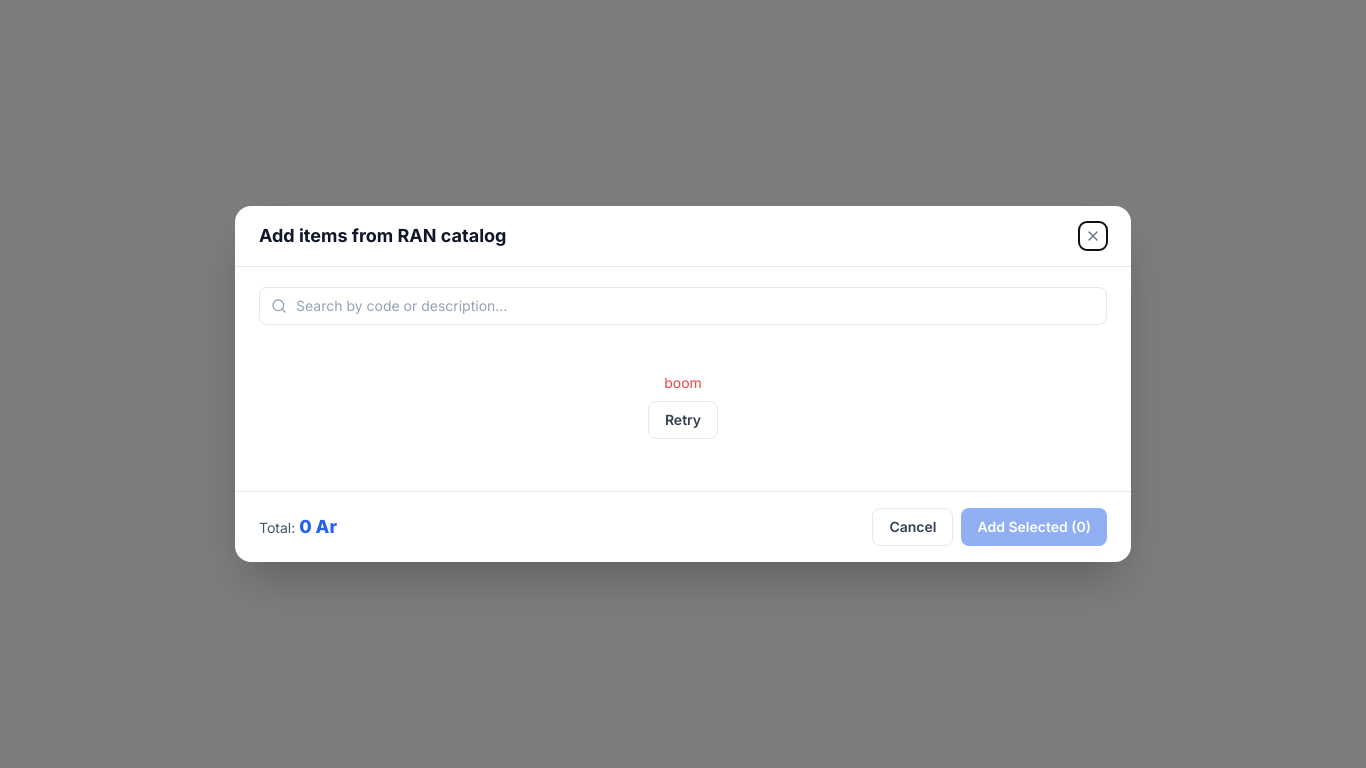
Test: ItemPickerModal — catalog fetch › shows an error state and recovers on Retry
Expected: the text "boom" is shown, [664,374,702,391]
Click the button "Retry" at (683, 420), box [648,401,718,439]
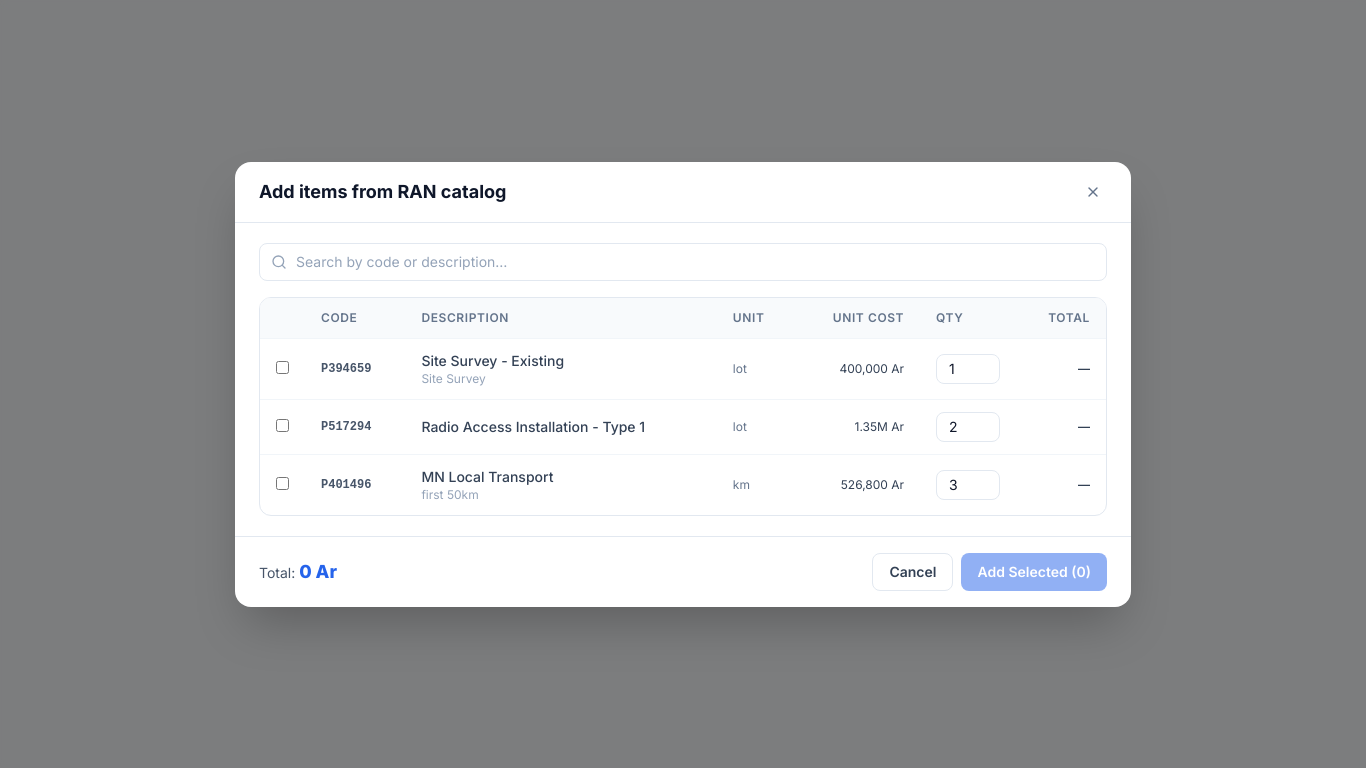
Result: the text "Site Survey - Existing" is shown at [421,352,564,368]
